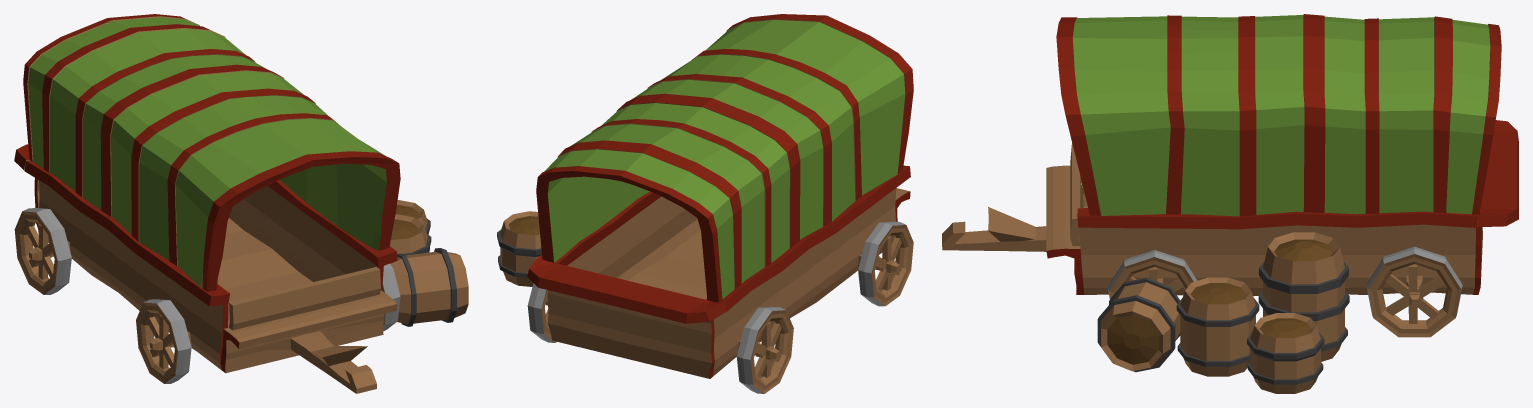
File: Building_LV2_HorseCargo_Green.fbx
The picture shows the model from 3 angles, left to right: view 1: azimuth 30°, elevation 25°; view 2: azimuth 150°, elevation 25°; view 3: azimuth 270°, elevation 25°; orthographic projection. The views are drawn at different scales.
Parts seen in each view (by area): view 1: Carriage_Green; view 2: Carriage_Green; view 3: Carriage_Green.
Part boxes in pixels (<box>): Carriage_Green: <box>14,14,468,393</box>; Carriage_Green: <box>497,14,913,393</box>; Carriage_Green: <box>942,14,1518,393</box>.
Bounding box in the file's own units: 459 × 301 × 635.
2 materials, 2 textured.
